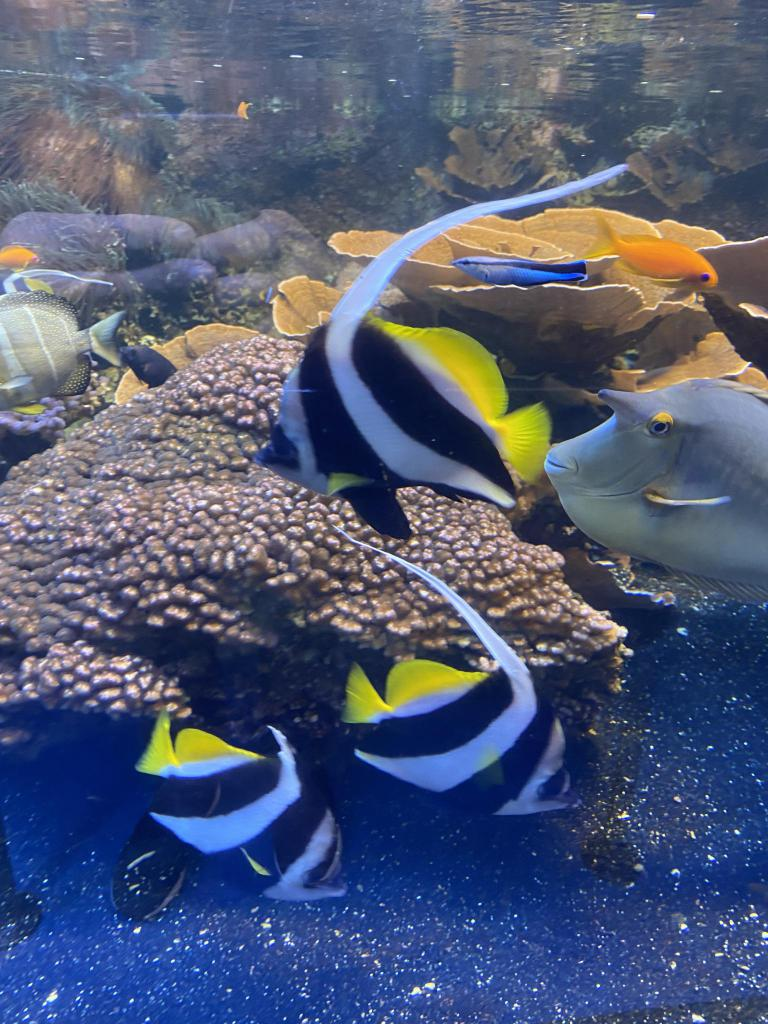fish: (254, 296, 524, 546), (542, 384, 768, 592), (338, 640, 588, 818), (138, 710, 348, 906), (0, 290, 127, 404), (452, 228, 594, 292), (596, 217, 714, 289), (0, 240, 42, 272)
